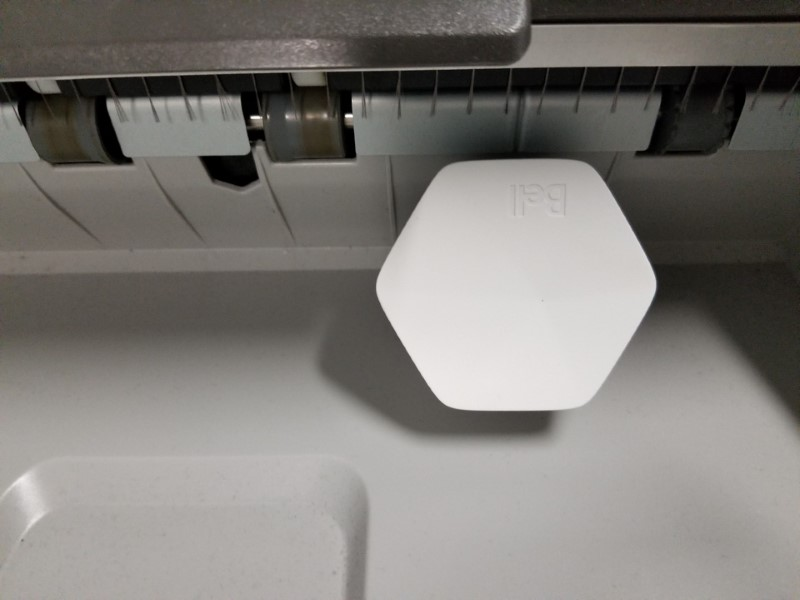pod: (371, 153, 672, 416)
